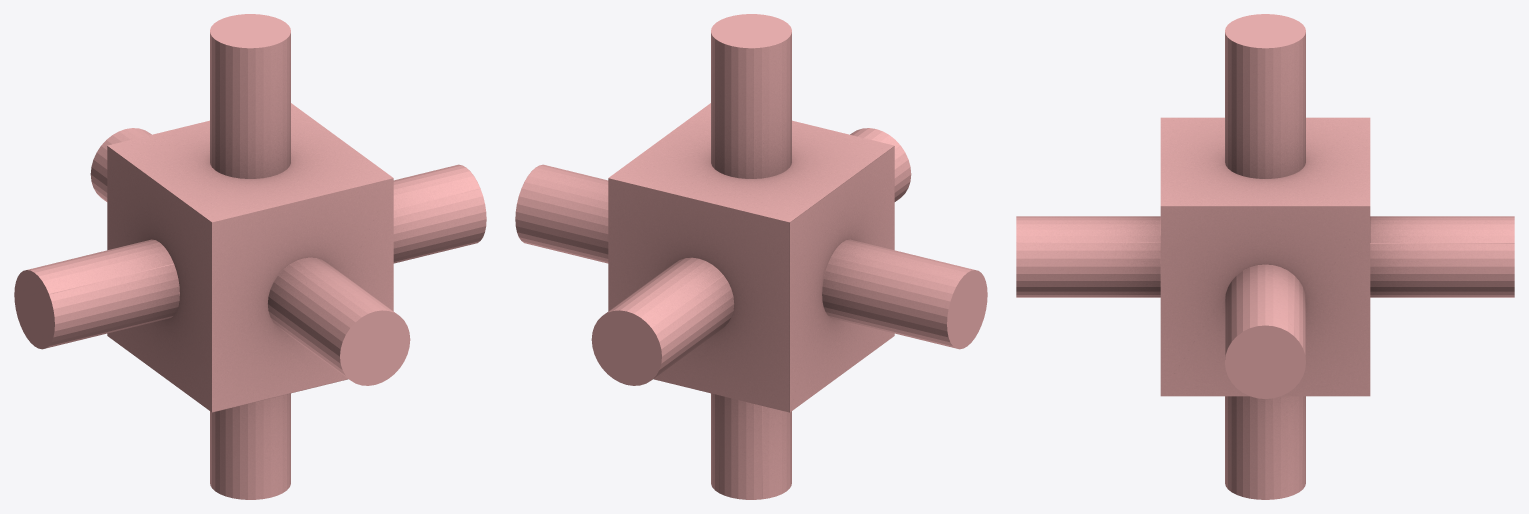
Rendered from Cubicle.glb.
3 views of the same model, side by side, from view 1: azimuth 30°, elevation 25°; view 2: azimuth 150°, elevation 25°; view 3: azimuth 270°, elevation 25° (orthographic).
Parts seen in each view (by area): view 1: Cylinder; view 2: Cylinder; view 3: Cylinder.
Boxes of the visible parts, box(x1,y1,x2,y2) form: Cylinder: box(14, 14, 486, 499); Cylinder: box(515, 14, 987, 499); Cylinder: box(1016, 14, 1514, 499).
Size of the model in its own units: 4.75 by 4.75 by 4.75.
1 material, 1 textured.
